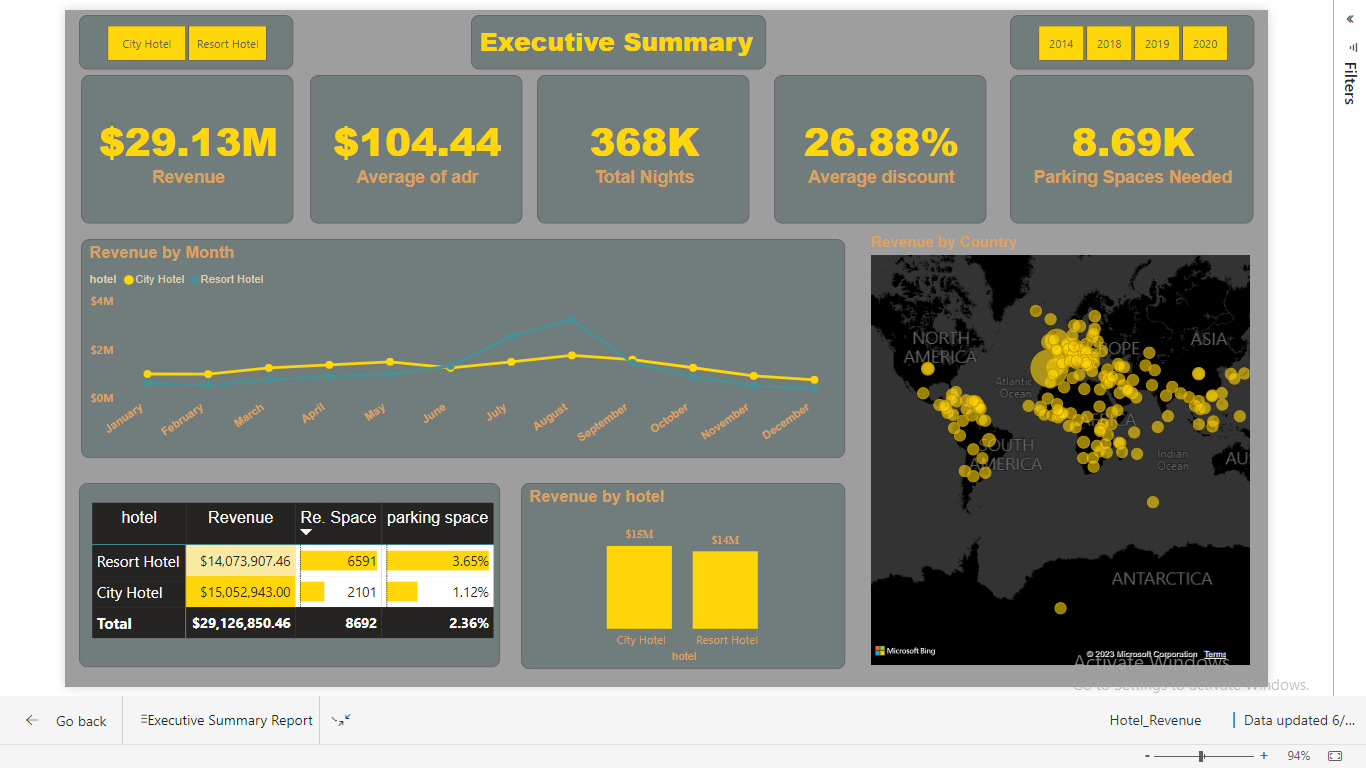

The dashboard page shown, as its layout file describes it:
{"tool":"powerbi","page":{"name":"Executive Summary Report","canvas":[1280,720],"ordinal":0},"visuals":[{"type":"card","fields":{"Values":["Sum(Query1.revenue)"]},"box":[16.6,69.4,226.1,158.3],"z":0},{"type":"slicer","fields":{"Values":["Query1.ReservationYear"]},"box":[1005,5,260,58.3],"z":1000},{"type":"card","fields":{"Values":["Query1.Total Nights"]},"box":[502,69.4,226.1,158.3],"z":2000},{"type":"card","fields":{"Values":["Avg(Query1.adr)"]},"box":[260.8,69.4,226.1,158.3],"z":3000},{"type":"card","fields":{"Values":["Avg(Hotel_revenue market_segment.discount)"]},"box":[753.8,69.4,226.1,158.3],"z":4000},{"type":"card","fields":{"Values":["Sum(Query1.required_car_parking_spaces)"]},"box":[1005.6,69.4,259.3,158.3],"z":5000},{"type":"lineChart","title":"Revenue by Month","fields":{"Category":["Query1.Start of Month.Variation.Date Hierarchy.Month"],"Y":["Sum(Query1.TotalRevenue)"],"Series":["Query1.hotel"]},"box":[16.7,243.3,813.3,233.3],"z":6000},{"type":"map","title":"Revenue by Country","fields":{"Category":["Query1.country"],"Size":["Sum(Query1.TotalRevenue)"]},"box":[851.7,238.3,413.3,463.3],"z":7000},{"type":"pivotTable","fields":{"Rows":["Query1.hotel"],"Values":["Sum(Query1.TotalRevenue)","Sum(Query1.required_car_parking_spaces)","Query1.parking space"]},"box":[15,503.3,448.3,196],"z":8000},{"type":"columnChart","title":"Revenue by hotel","fields":{"Category":["Query1.hotel"],"Y":["Sum(Query1.TotalRevenue)"]},"box":[485,503.3,345,198.3],"z":9000},{"type":"textbox","box":[432,5,314,58],"z":10000},{"type":"slicer","fields":{"Values":["Query1.hotel"]},"box":[15,5,228.3,58.3],"z":11000}]}

Visuals, with their boxes on the page's 1280x720 design canvas (x1, y1, x2, y2). These are canvas units, not pixel positions in the 1366x768 screenshot, which may show the page scaled, cropped or inside an application window:
card - Sum(Query1.revenue): {"x1": 17, "y1": 69, "x2": 243, "y2": 228}
slicer - Query1.ReservationYear: {"x1": 1005, "y1": 5, "x2": 1265, "y2": 63}
card - Query1.Total Nights: {"x1": 502, "y1": 69, "x2": 728, "y2": 228}
card - Avg(Query1.adr): {"x1": 261, "y1": 69, "x2": 487, "y2": 228}
card - Avg(Hotel_revenue market_segment.discount): {"x1": 754, "y1": 69, "x2": 980, "y2": 228}
card - Sum(Query1.required_car_parking_spaces): {"x1": 1006, "y1": 69, "x2": 1265, "y2": 228}
"Revenue by Month" lineChart: {"x1": 17, "y1": 243, "x2": 830, "y2": 477}
"Revenue by Country" map: {"x1": 852, "y1": 238, "x2": 1265, "y2": 702}
pivotTable - Query1.hotel x Sum(Query1.TotalRevenue): {"x1": 15, "y1": 503, "x2": 463, "y2": 699}
"Revenue by hotel" columnChart: {"x1": 485, "y1": 503, "x2": 830, "y2": 702}
textbox: {"x1": 432, "y1": 5, "x2": 746, "y2": 63}
slicer - Query1.hotel: {"x1": 15, "y1": 5, "x2": 243, "y2": 63}
